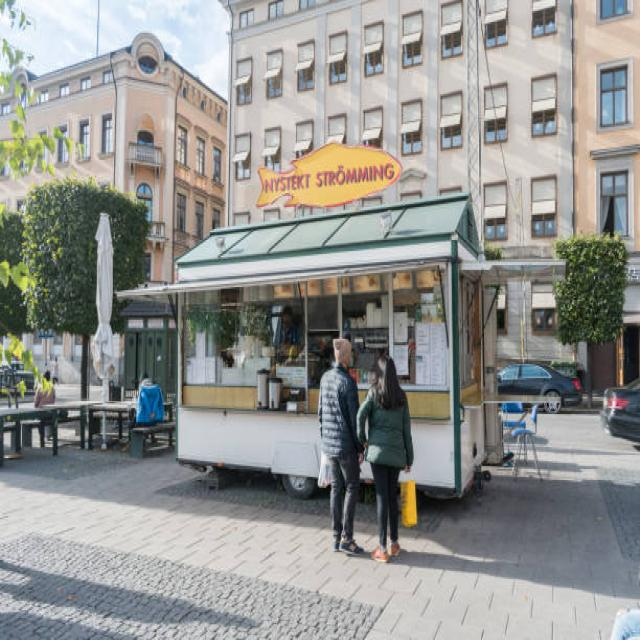Emperan: (113, 121, 519, 536)
